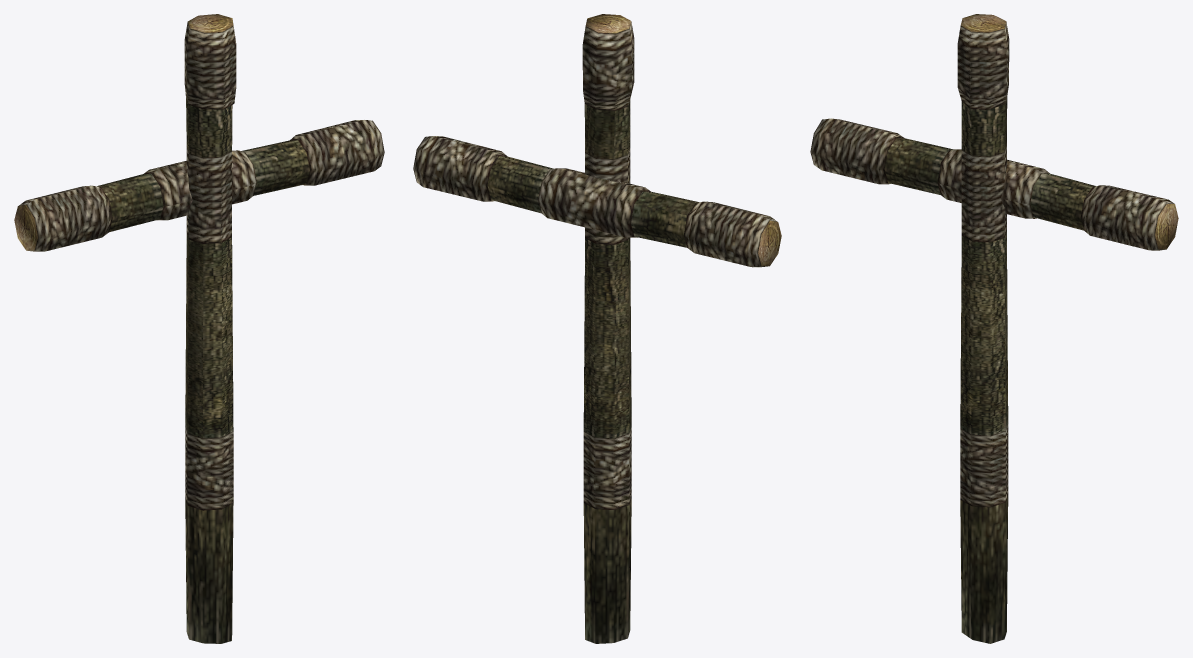
The model's file is thing_barricade_cross00.fbx.
The picture shows the model from 3 angles, left to right: view 1: azimuth 30°, elevation 25°; view 2: azimuth 150°, elevation 25°; view 3: azimuth 330°, elevation 25°; orthographic projection.
Visible parts, largest first — view 1: Object01; view 2: Object01; view 3: Object01.
Part boxes in pixels (x1,y1,x2,y2): Object01: (14,14,384,643); Object01: (413,14,781,643); Object01: (810,14,1178,643).
Bounding box in the file's own units: 1.53 × 2.61 × 0.2997.
